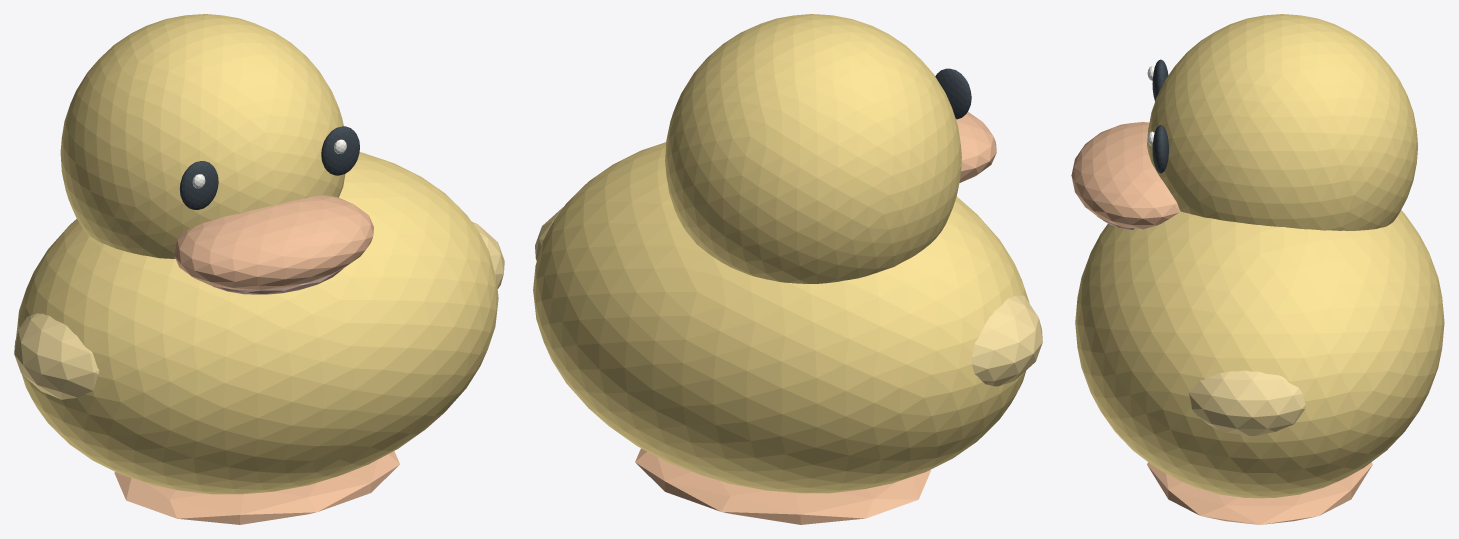
The model's file is rubber-duck.glb.
3 views of the same model, side by side, from view 1: azimuth 30°, elevation 25°; view 2: azimuth 150°, elevation 25°; view 3: azimuth 270°, elevation 25° (orthographic). The views are drawn at different scales.
Parts seen in each view (by area): view 1: duck_body_0, duck_head_1, bill_4, orange_8, left_wing_3, ink_6, right_wing_2, terracotta_5; view 2: duck_body_0, duck_head_1, orange_8, left_wing_3, bill_4, ink_6; view 3: duck_body_0, duck_head_1, bill_4, right_wing_2, orange_8, ink_6.
Part boxes in pixels (box(x1,y1,x2,y2)): duck_body_0: box(16, 152, 498, 494); duck_head_1: box(60, 14, 345, 258); bill_4: box(174, 195, 373, 290); orange_8: box(114, 451, 399, 524); left_wing_3: box(14, 313, 99, 399); ink_6: box(179, 126, 359, 209); right_wing_2: box(472, 221, 504, 288); terracotta_5: box(212, 268, 343, 294); duck_body_0: box(533, 142, 1029, 493); duck_head_1: box(665, 14, 961, 283); orange_8: box(635, 448, 930, 524); left_wing_3: box(971, 295, 1042, 386); bill_4: box(956, 112, 996, 182); ink_6: box(935, 68, 971, 119); duck_body_0: box(1075, 210, 1444, 498); duck_head_1: box(1147, 14, 1417, 230); bill_4: box(1071, 122, 1180, 229); right_wing_2: box(1188, 370, 1305, 435); orange_8: box(1147, 462, 1372, 524); ink_6: box(1152, 59, 1168, 173).
Size of the model in its own units: 1.37 by 1.27 by 0.99.
